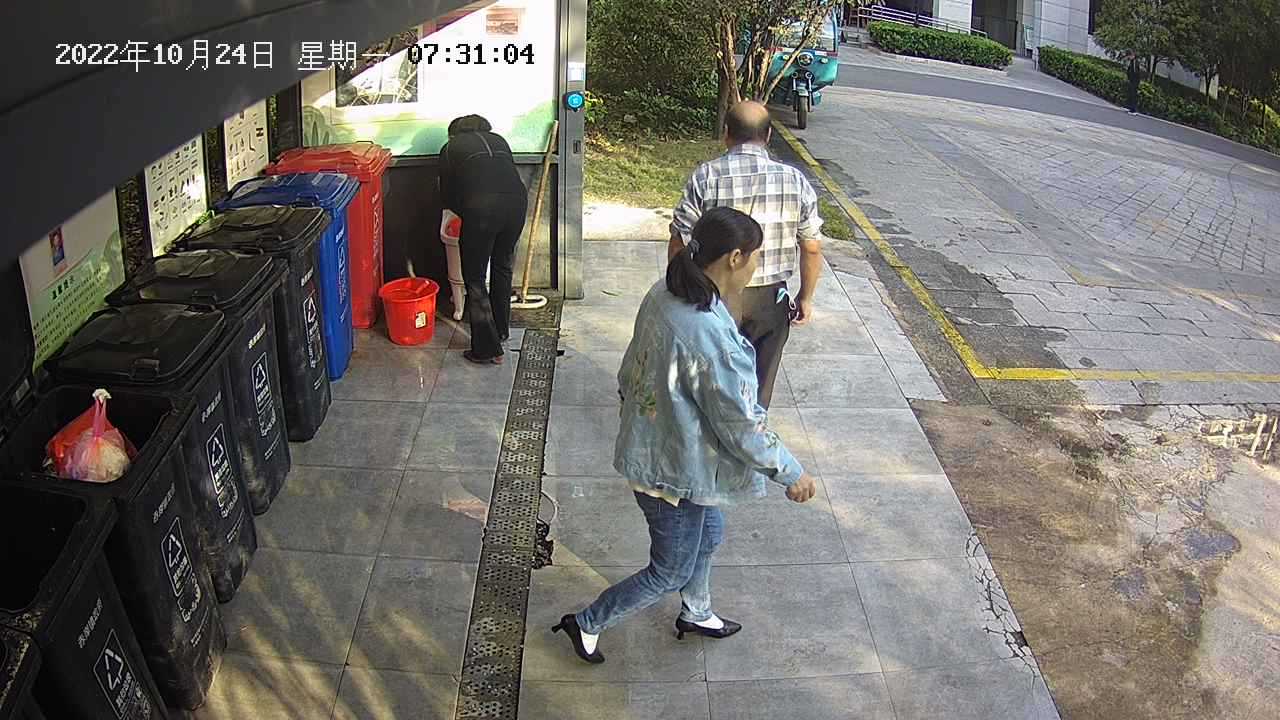person: (543, 93, 828, 667), (434, 110, 536, 369)
youtong: (373, 272, 441, 351)
